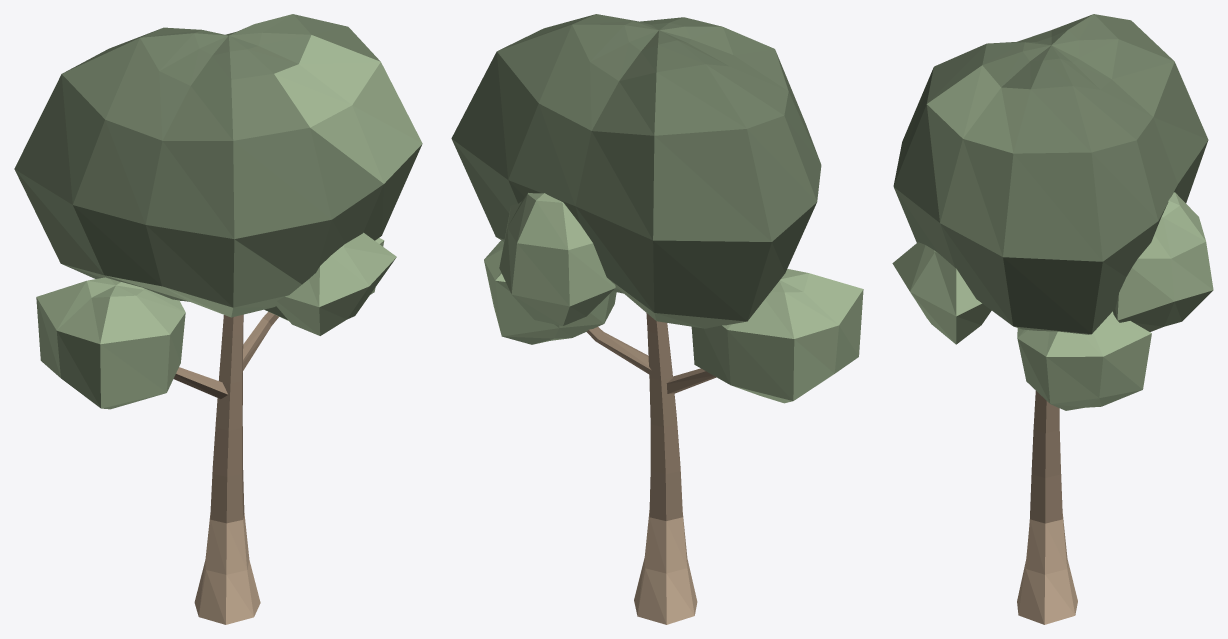
File: broadleaf-oak-997c22.glb
3 views of the same model, side by side, from view 1: azimuth 30°, elevation 25°; view 2: azimuth 150°, elevation 25°; view 3: azimuth 270°, elevation 25° (orthographic). The views are drawn at different scales.
Parts seen in each view (by area): view 1: broadleaf-oak-mesh; view 2: broadleaf-oak-mesh; view 3: broadleaf-oak-mesh.
Boxes of the visible parts, x1=… form: broadleaf-oak-mesh: x1=14, y1=14, x2=422, y2=624; broadleaf-oak-mesh: x1=451, y1=14, x2=863, y2=624; broadleaf-oak-mesh: x1=892, y1=14, x2=1213, y2=624.
Bounding box in the file's own units: 4.5 × 6.98 × 3.57.
